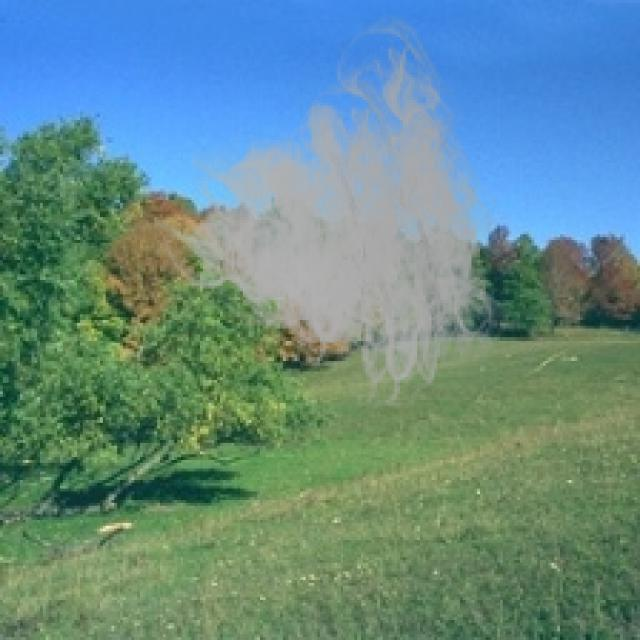smoke: (154, 11, 517, 420)
